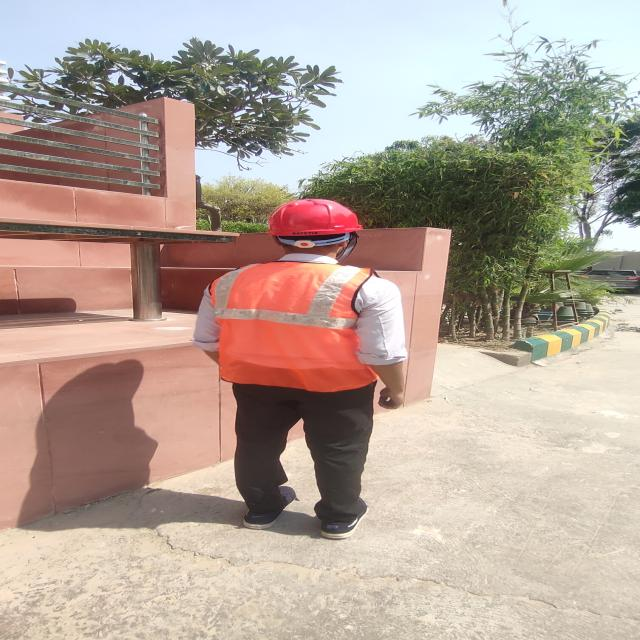safe: (194, 200, 406, 538)
